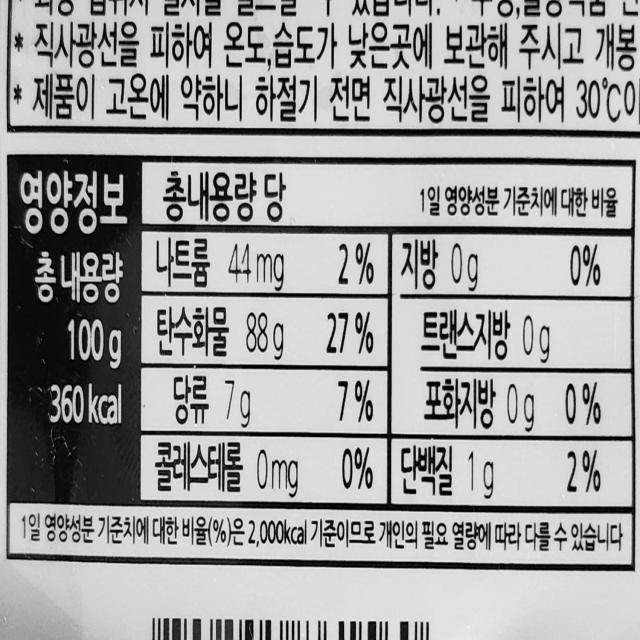Nutrition Label: (1, 144, 640, 573)
